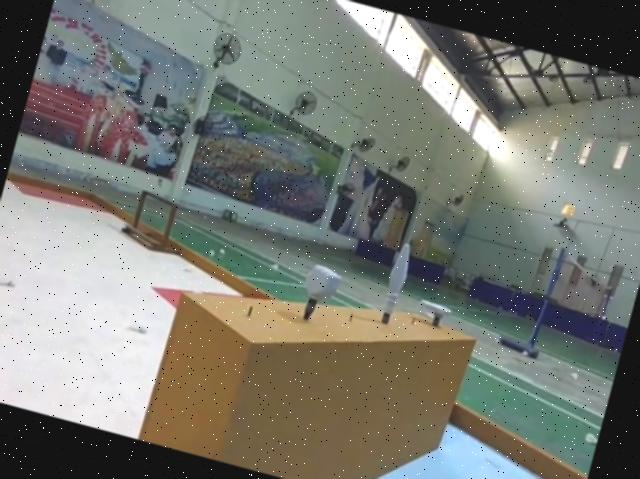Fist: (296, 261, 347, 326)
Hand: (419, 298, 452, 328)
Sph: (373, 239, 414, 326)
